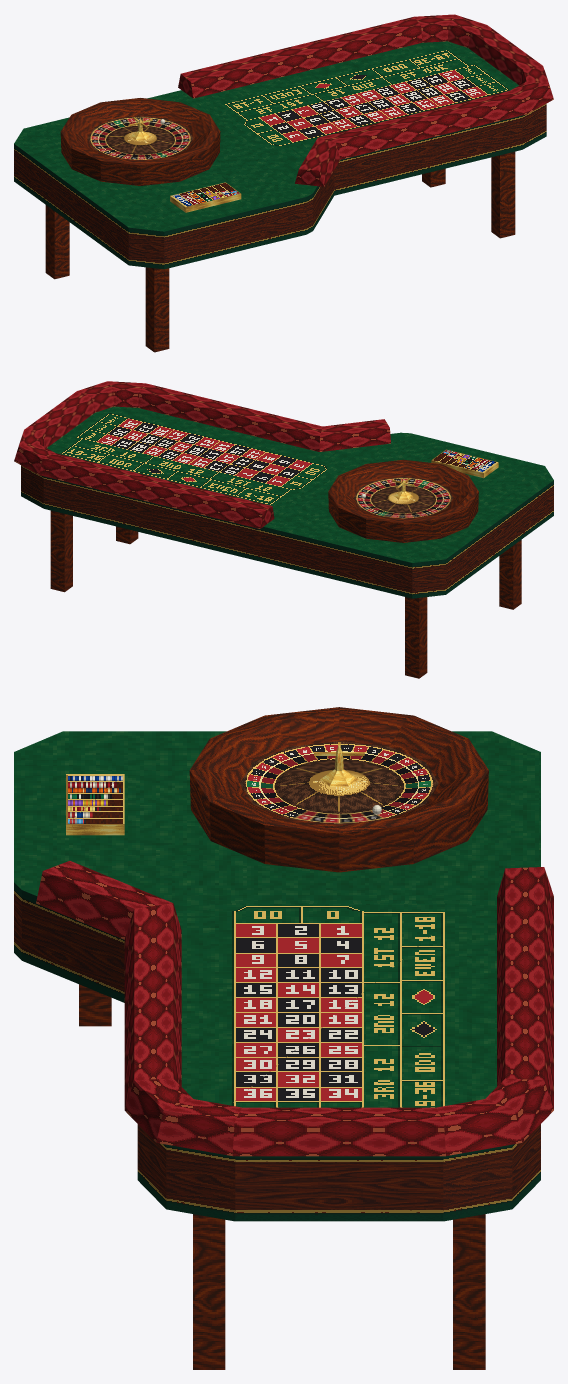
Rendered from roulette_table.glb.
The picture shows the model from 3 angles, top to bottom: view 1: azimuth 30°, elevation 25°; view 2: azimuth 150°, elevation 25°; view 3: azimuth 270°, elevation 25°; orthographic projection. The views are drawn at different scales.
Visible parts, largest first — view 1: skirt, arm_rail, felt_top, layout, wheel_bowl, legs, wheel_disc, dealer_tray; view 2: skirt, arm_rail, felt_top, layout, wheel_bowl, legs, wheel_disc, dealer_tray; view 3: felt_top, layout, arm_rail, skirt, wheel_bowl, wheel_disc, legs, dealer_tray, wheel_turret.
Part boxes in pixels (box(x1,y1,x2,y2)): skirt: box(14, 103, 546, 269); arm_rail: box(178, 14, 553, 186); felt_top: box(14, 41, 518, 231); layout: box(208, 43, 511, 152); wheel_bowl: box(60, 98, 220, 185); legs: box(45, 151, 515, 352); wheel_disc: box(87, 116, 193, 160); dealer_tray: box(170, 182, 241, 212); skirt: box(21, 465, 553, 598); arm_rail: box(14, 381, 390, 528); felt_top: box(47, 406, 553, 562); layout: box(54, 408, 339, 511); wheel_bowl: box(328, 459, 478, 542); legs: box(50, 510, 521, 678); wheel_disc: box(353, 477, 453, 518); dealer_tray: box(431, 449, 498, 478); felt_top: box(14, 731, 540, 1101); layout: box(209, 903, 469, 1107); arm_rail: box(36, 861, 553, 1156); skirt: box(14, 882, 540, 1221); wheel_bowl: box(189, 707, 488, 872); wheel_disc: box(240, 741, 438, 824); legs: box(79, 984, 485, 1369); dealer_tray: box(66, 774, 124, 835); wheel_turret: box(314, 742, 364, 786).
Bounding box in the file's own units: 3.09 × 1.08 × 1.66.
9 materials, 9 textured.
